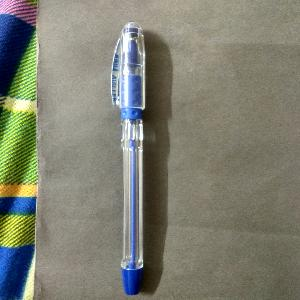pen: (107, 18, 158, 295)
